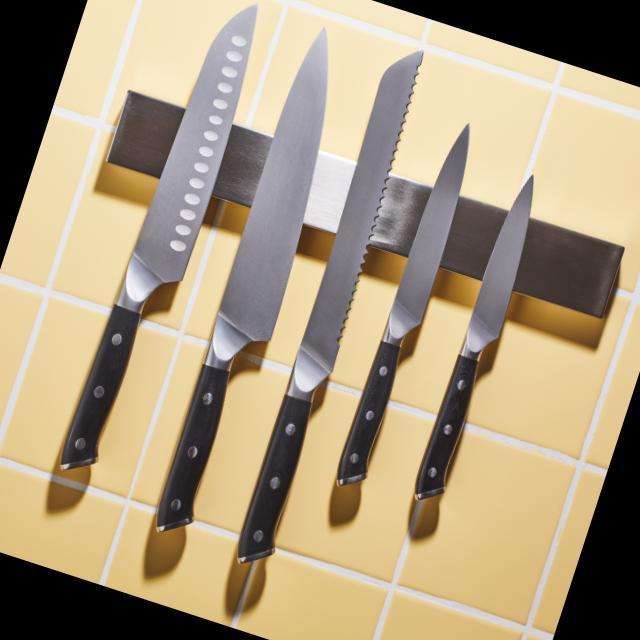Weapon: (200, 35, 448, 630), (123, 14, 375, 598), (41, 0, 272, 534), (314, 107, 498, 551), (395, 164, 559, 557)
